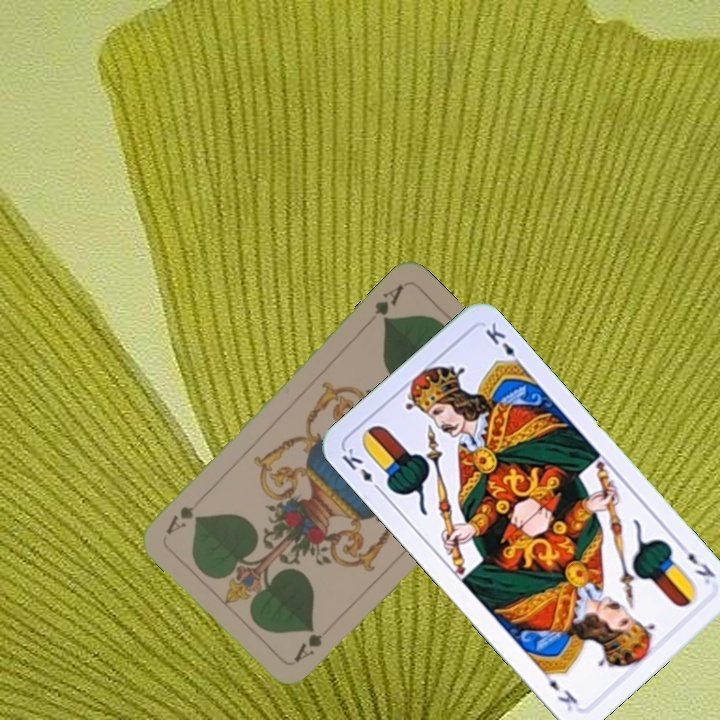EK: (338, 444, 385, 495), (673, 538, 718, 587)
GA: (370, 280, 407, 325), (290, 629, 325, 665)
